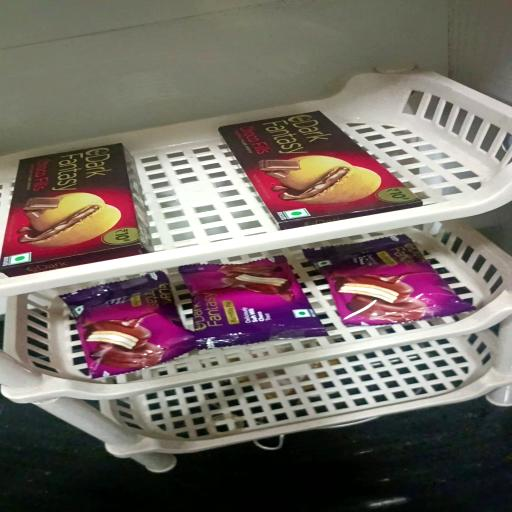Choco Fills: (219, 111, 421, 229), (0, 144, 152, 277)
Choco Pie: (303, 234, 474, 326), (60, 271, 196, 378), (179, 256, 326, 349)
